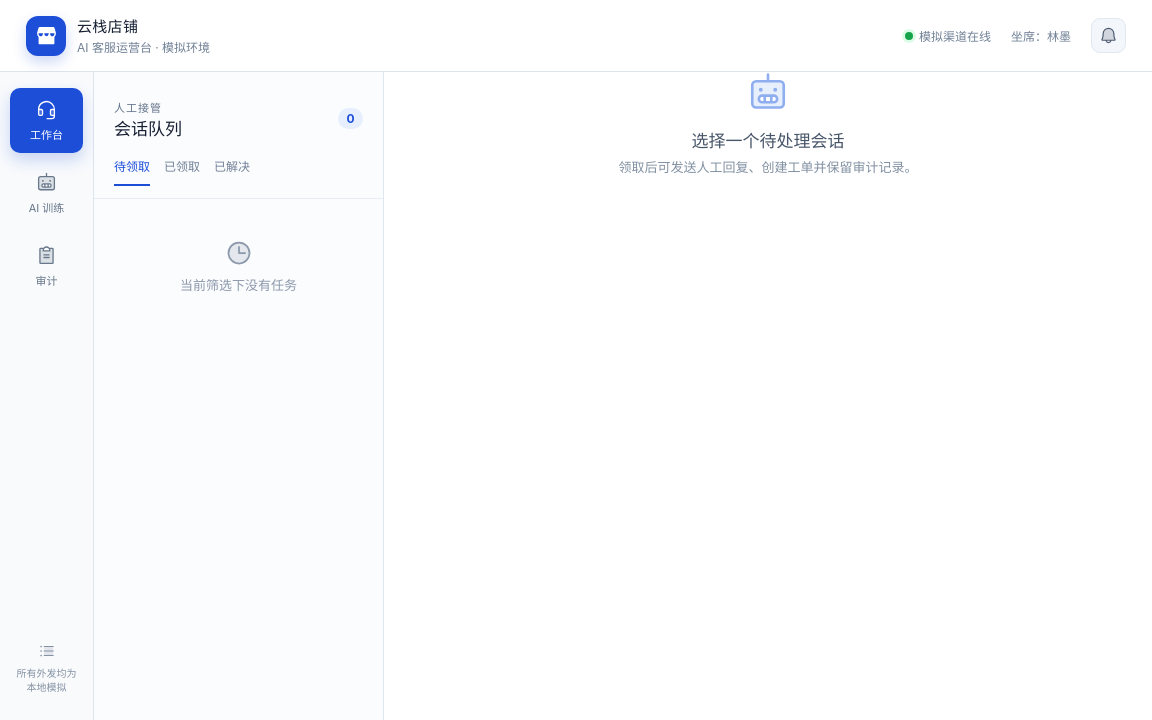
Test: renders audit records inside an accessible internal region
This screenshot has width=1152, height=720.
Click the button "审计" at coordinates (46, 266), box [10, 234, 83, 299]
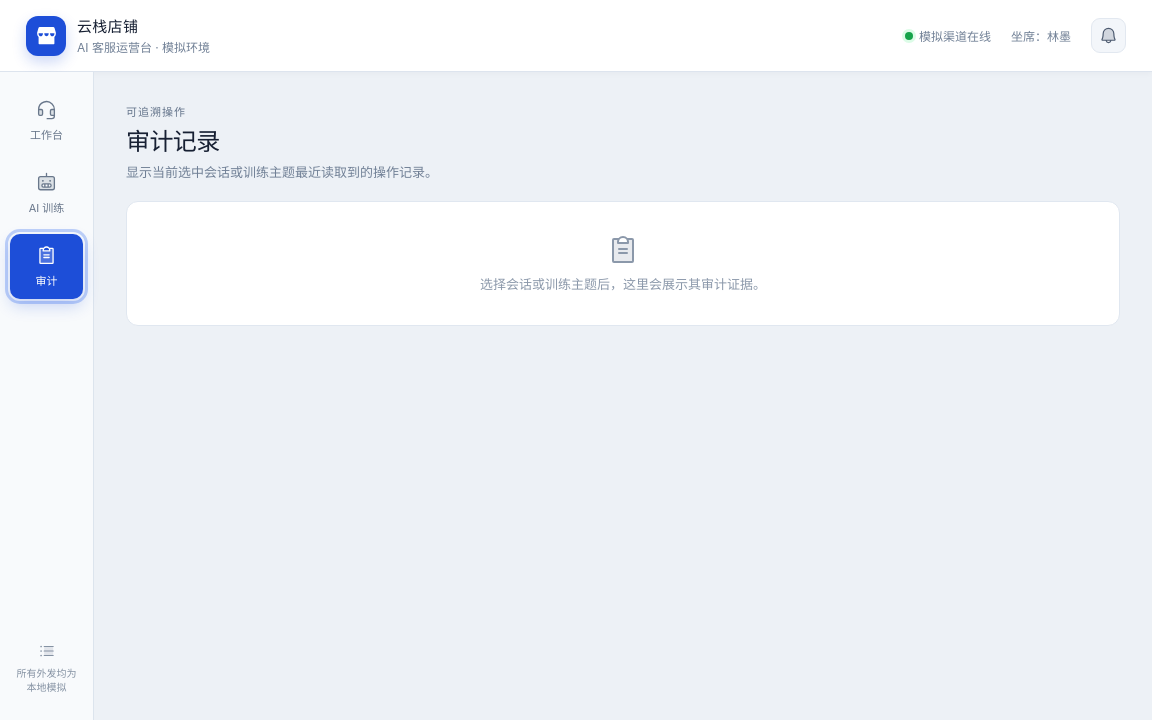
Result: the element named "审计记录列表" is shown at [126, 201, 1120, 326]
